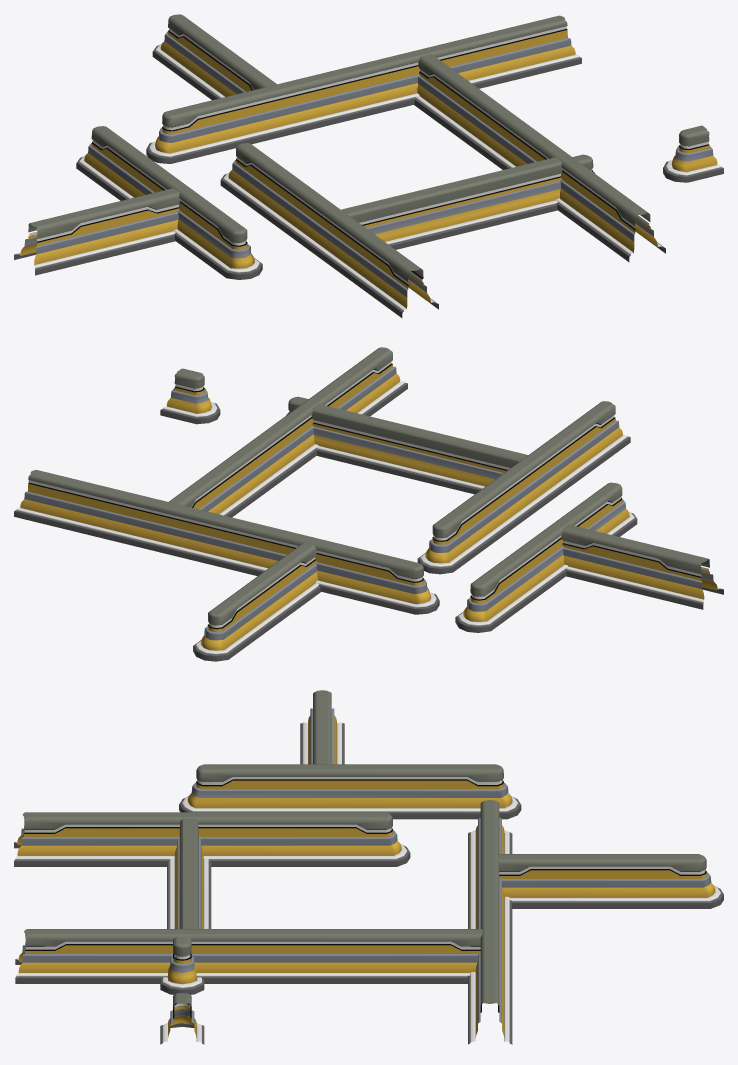
Rendered from Small walls.fbx.
3 views of the same model, one above another, from view 1: azimuth 30°, elevation 25°; view 2: azimuth 150°, elevation 25°; view 3: azimuth 270°, elevation 25° (orthographic). The views are drawn at different scales.
Visible parts, largest first — view 1: Small_wallv1_41, Small_wallv1_40, Small_wallv1_21, Small_wall_L47, Small_wallv1_20, Small_wallv1_4, Small_wallv1_100, Small_wallv1_102; view 2: Small_wallv1_41, Small_wallv1_21, Small_wallv1_40, Small_wall_L47, Small_wallv1_20, Small_wallv1_4, Small_wallv1_100, Small_wallv1_102; view 3: Small_wallv1_40, Small_wallv1_21, Small_wallv1_20, Small_wallv1_100, Small_wallv1_41, Small_wall_L47, Small_wallv1_4, Small_wallv1_101, Small_wallv1_102.
Part boxes in pixels (x1,y1,x2,y2): Small_wallv1_41: (146, 15, 581, 163); Small_wallv1_40: (414, 54, 665, 262); Small_wallv1_21: (220, 143, 438, 317); Small_wall_L47: (341, 157, 562, 249); Small_wallv1_20: (76, 126, 262, 279); Small_wallv1_4: (14, 188, 180, 275); Small_wallv1_100: (152, 14, 276, 100); Small_wallv1_102: (663, 125, 723, 182); Small_wallv1_41: (14, 470, 439, 614); Small_wallv1_21: (417, 401, 630, 574); Small_wallv1_40: (169, 347, 407, 517); Small_wall_L47: (311, 404, 528, 494); Small_wallv1_20: (455, 482, 637, 632); Small_wallv1_4: (561, 524, 723, 609); Small_wallv1_100: (193, 542, 320, 661); Small_wallv1_102: (160, 368, 220, 424); Small_wallv1_40: (15, 929, 482, 983); Small_wallv1_21: (14, 812, 410, 866); Small_wallv1_20: (179, 764, 521, 819); Small_wallv1_100: (497, 854, 723, 908); Small_wallv1_41: (468, 800, 512, 1044); Small_wall_L47: (167, 818, 211, 928); Small_wallv1_4: (300, 690, 344, 764); Small_wallv1_101: (160, 937, 204, 994); Small_wallv1_102: (160, 992, 204, 1044).
Size of the model in its own units: 592 by 39.06 by 552.
